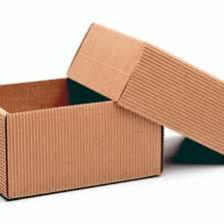cardboard: (67, 18, 224, 158), (0, 78, 175, 199)
